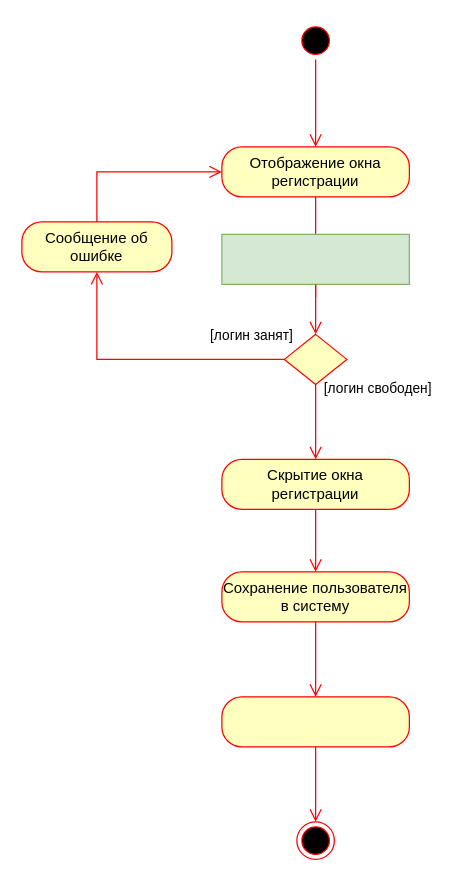
This 454x881 diagram has some shape labels left out. The shapes that lost their labels are listed below. From the top down, each one's box as (x1, y1, x2, y2) in pixels, then its label:
(221, 233, 409, 284): Нажатие кнопки регистрации
(221, 696, 409, 747): Отображение приветствующего она
